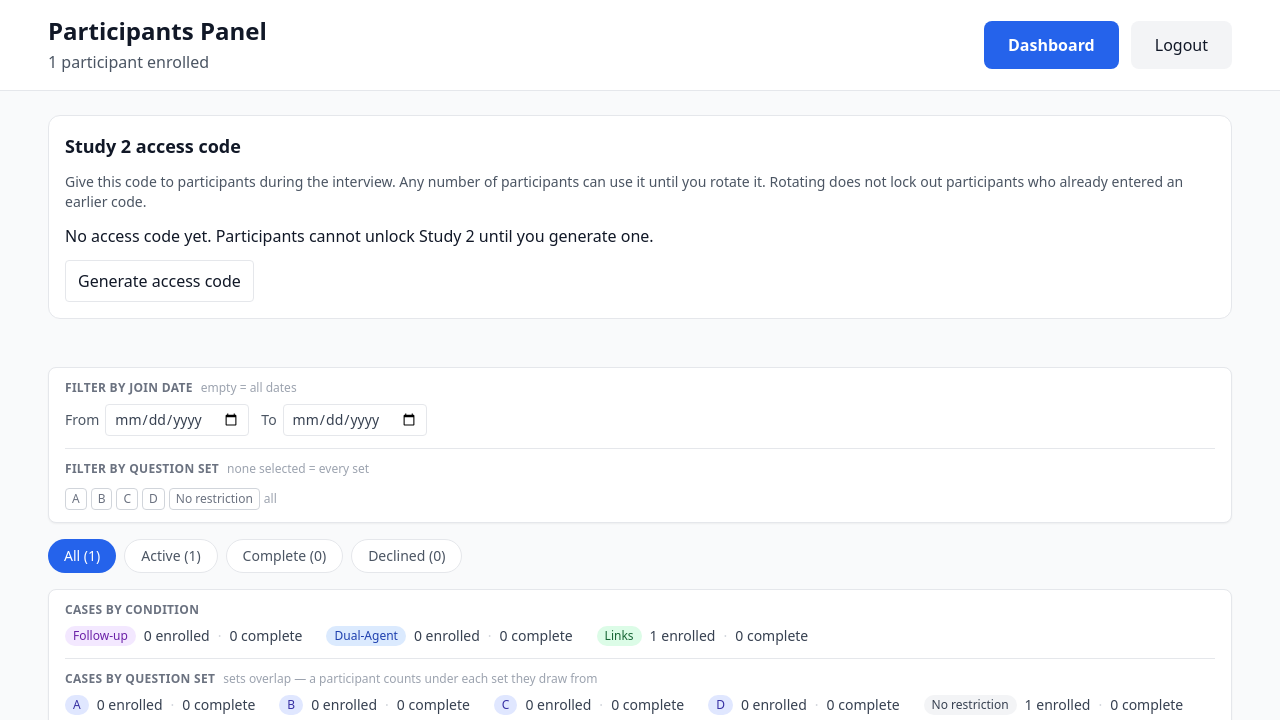
Test: ParticipantsPanelPage › tab filtering › shows an empty message when the filtered tab has no results
Click the button "Declined (0)" at [407, 556], box [351,539,462,573]
(page scrolled)
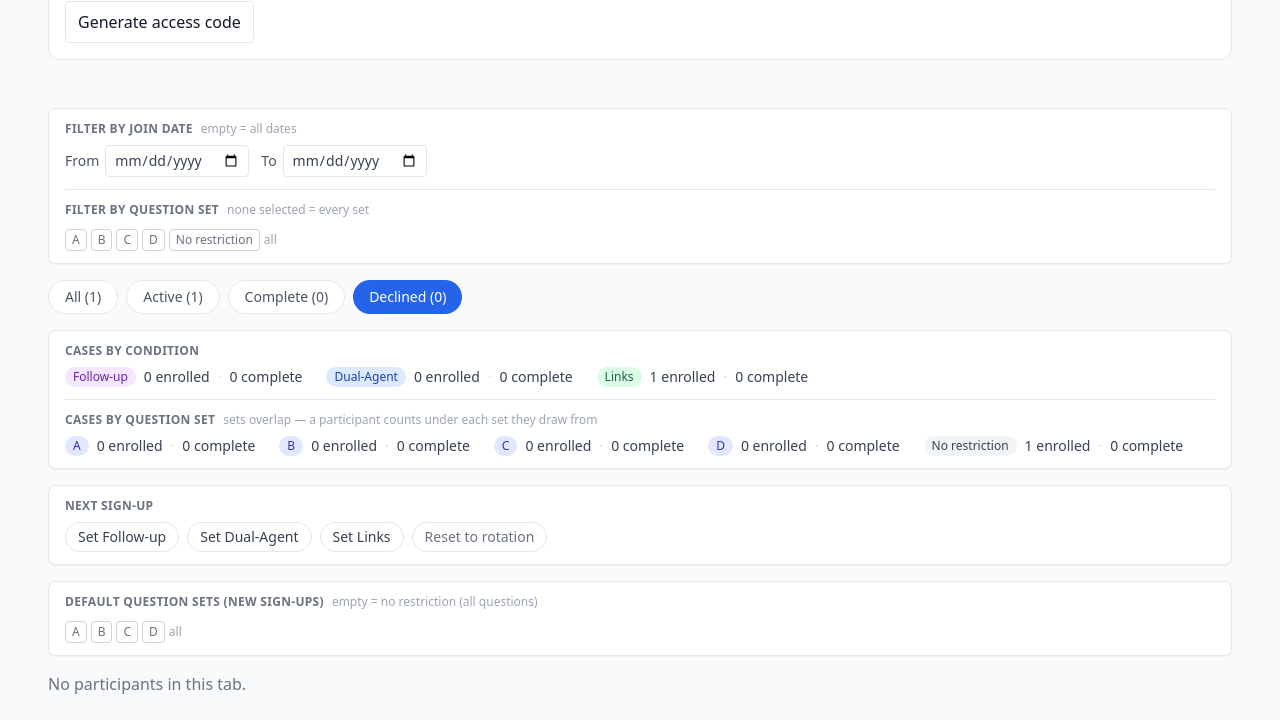
Check: the text "No participants in this tab." is shown, box [48,673,246,695]
